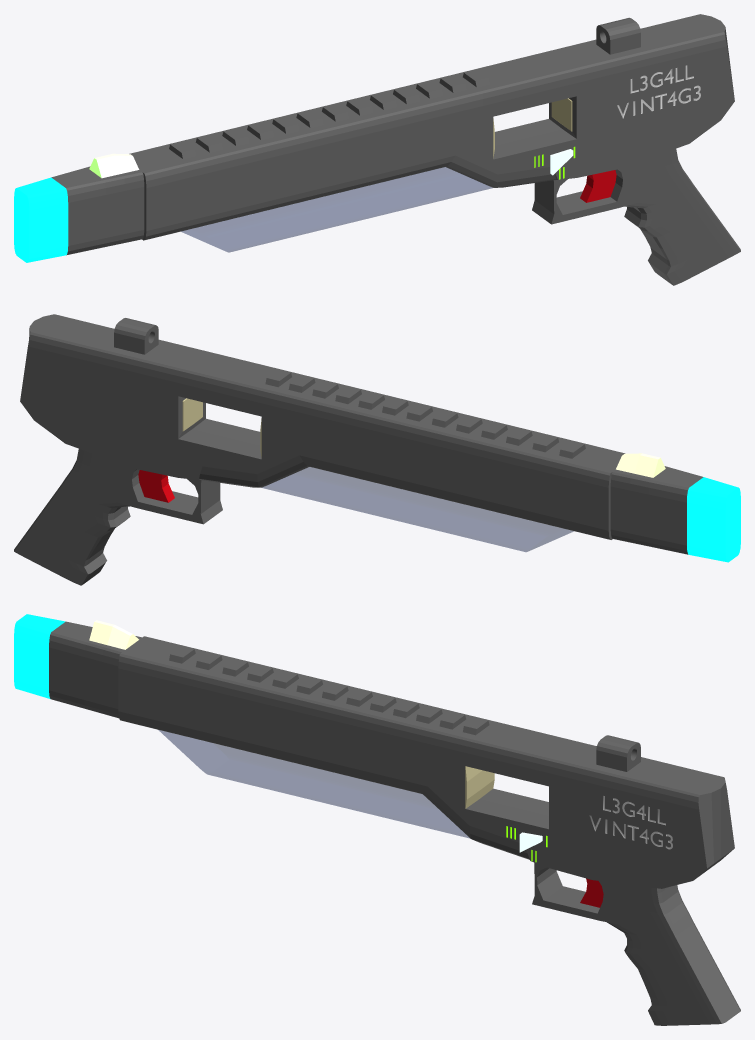
3 views of the same model, one above another, from view 1: azimuth 30°, elevation 25°; view 2: azimuth 150°, elevation 25°; view 3: azimuth 330°, elevation 25° (orthographic).
Parts seen in each view (by area): view 1: Cube.003, Cube.007, Cube.005, Cube.002; view 2: Cube.003, Cube.007, Cube.005, Cube.002; view 3: Cube.003, Cube.007, Cube.005.
Part boxes in pixels (left/top/right/bottom): Cube.003: left=14, top=14, right=734, bottom=262; Cube.007: left=446, top=101, right=740, bottom=285; Cube.005: left=181, top=167, right=492, bottom=252; Cube.002: left=580, top=170, right=616, bottom=202; Cube.003: left=20, top=314, right=740, bottom=562; Cube.007: left=14, top=401, right=309, bottom=585; Cube.005: left=262, top=467, right=573, bottom=551; Cube.002: left=138, top=470, right=174, bottom=502; Cube.003: left=14, top=614, right=734, bottom=868; Cube.007: left=425, top=788, right=740, bottom=1025; Cube.005: left=159, top=730, right=469, bottom=838.
Size of the model in its own units: 17.05 by 6.1 by 1.27.
